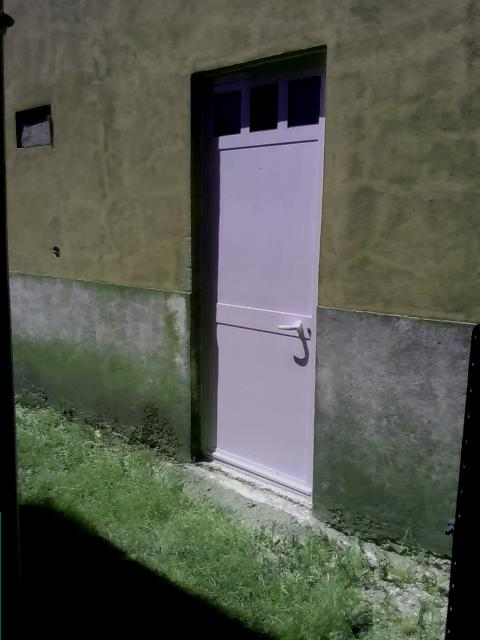closed_door: (192, 44, 326, 518)
